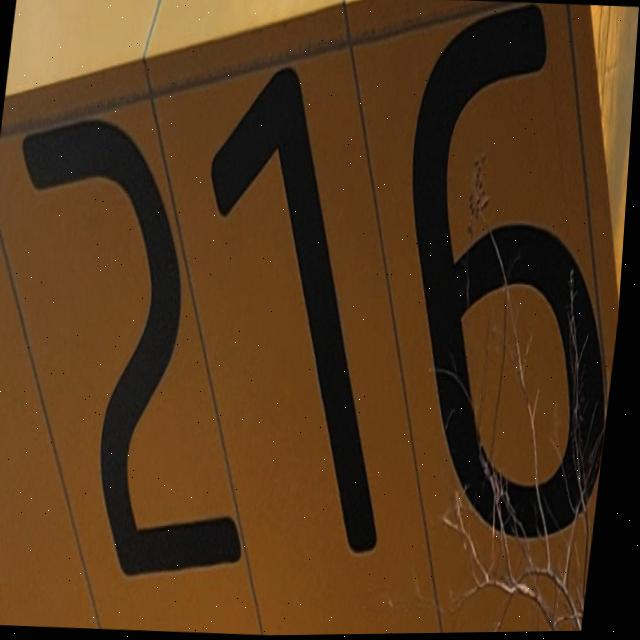character: (361, 0, 640, 553), (0, 102, 299, 596), (160, 44, 440, 571)
